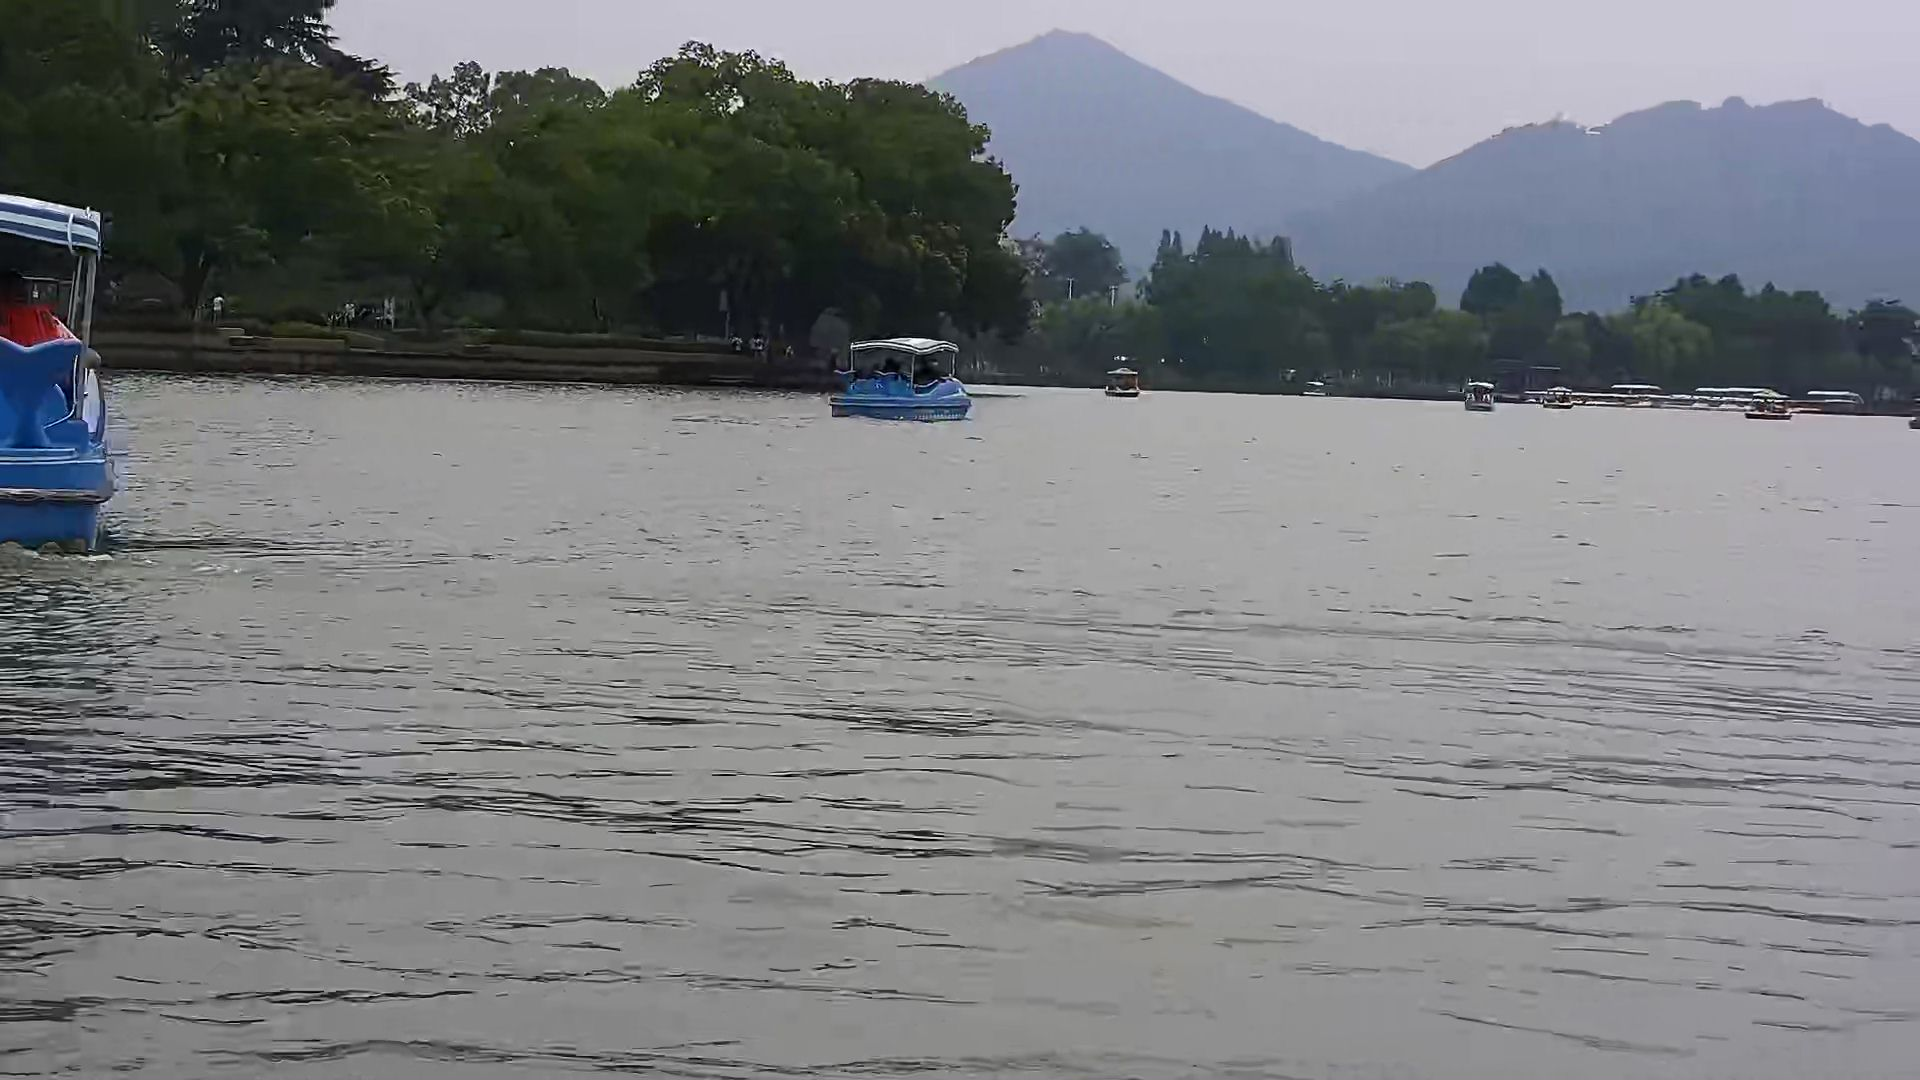boat: (829, 328, 980, 422), (1457, 375, 1503, 415), (1101, 363, 1139, 398)
